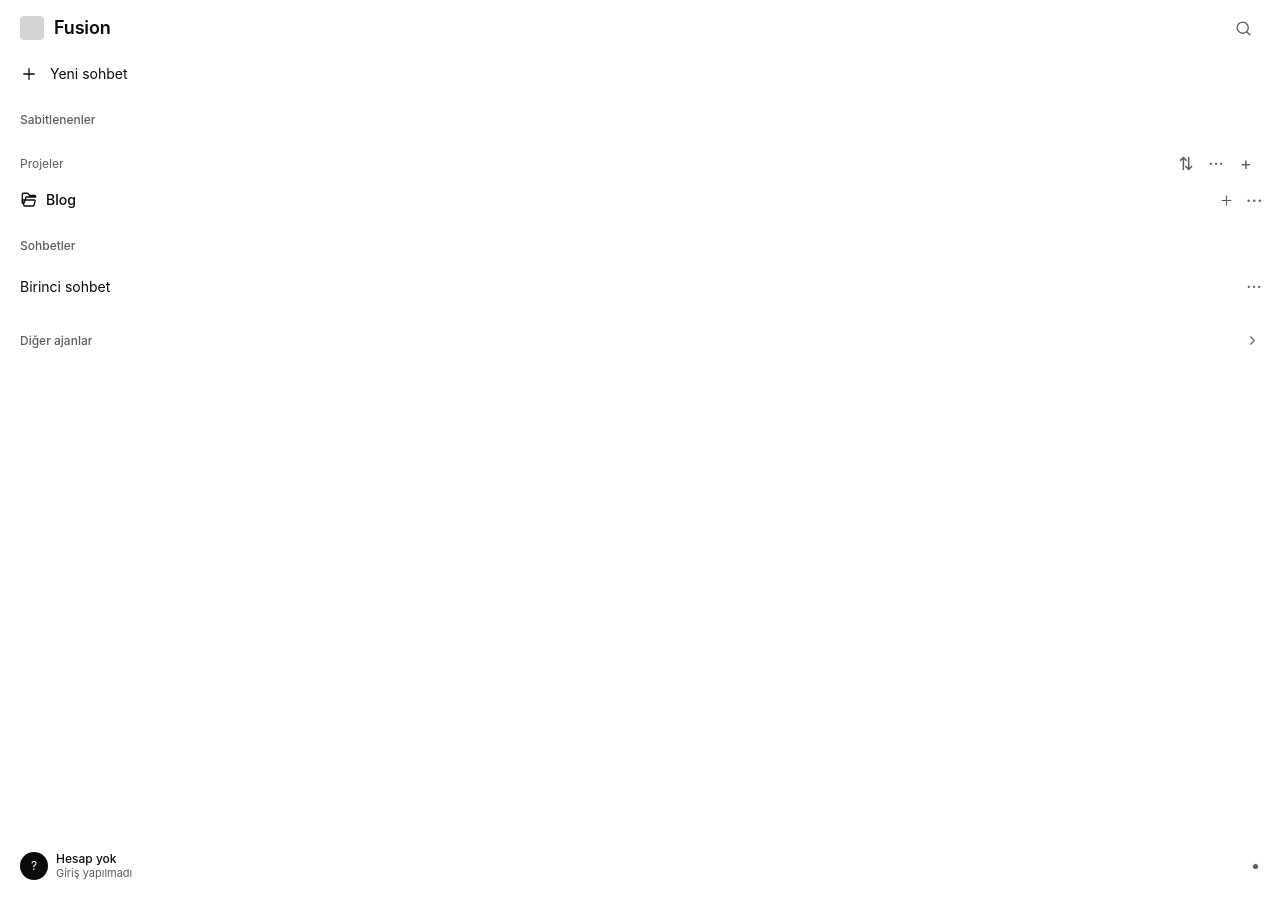
Scenario: Sidebar — dalga 4 P2/P3 › taşıma hatası 'Error:' öneki olmadan gösterilir (U1-60)
Click the button named "Birinci sohbet sohbet seçenekleri" at (1254, 287), box [1240, 273, 1268, 301]
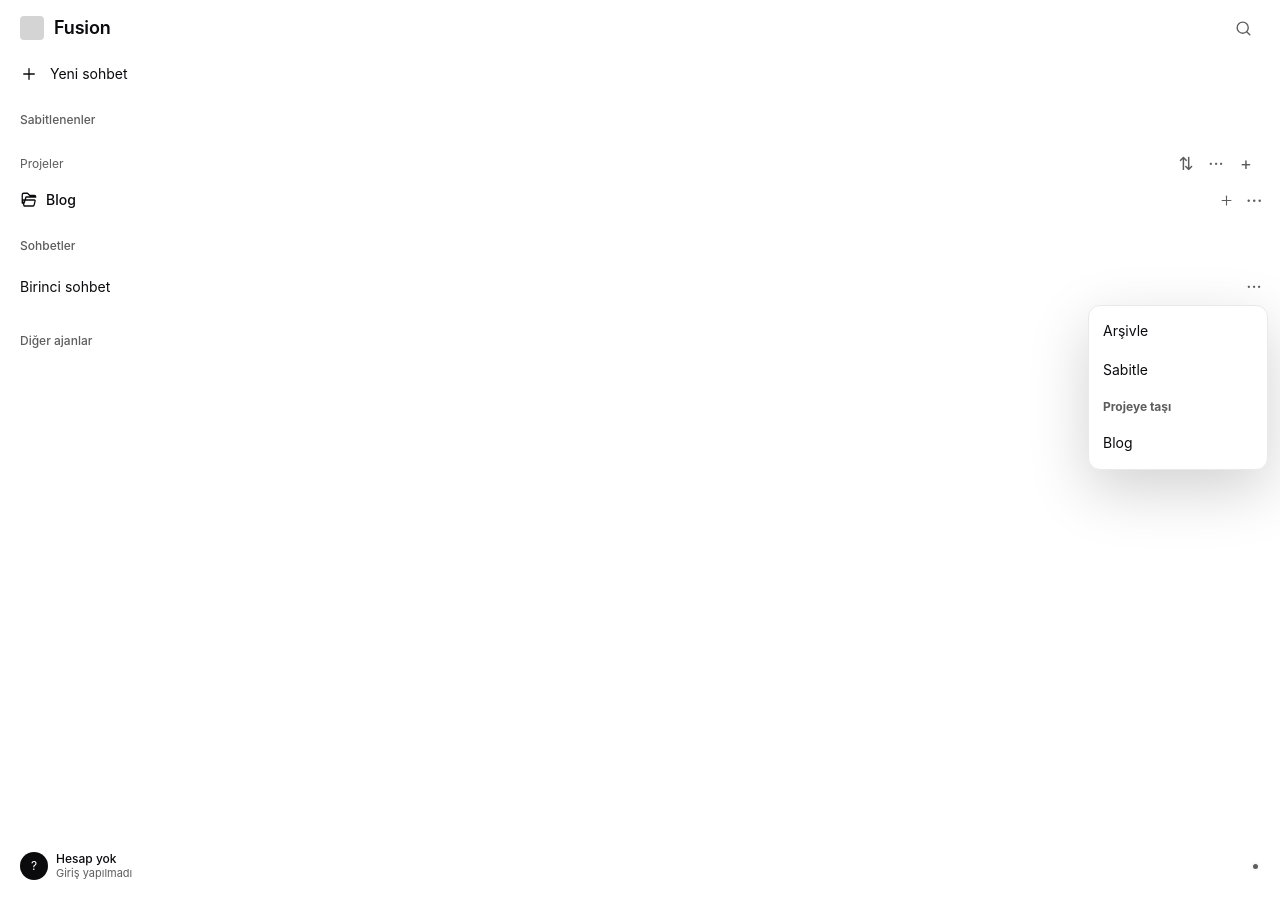
Click the menu item "Blog" at (1178, 444), box [1095, 424, 1261, 463]
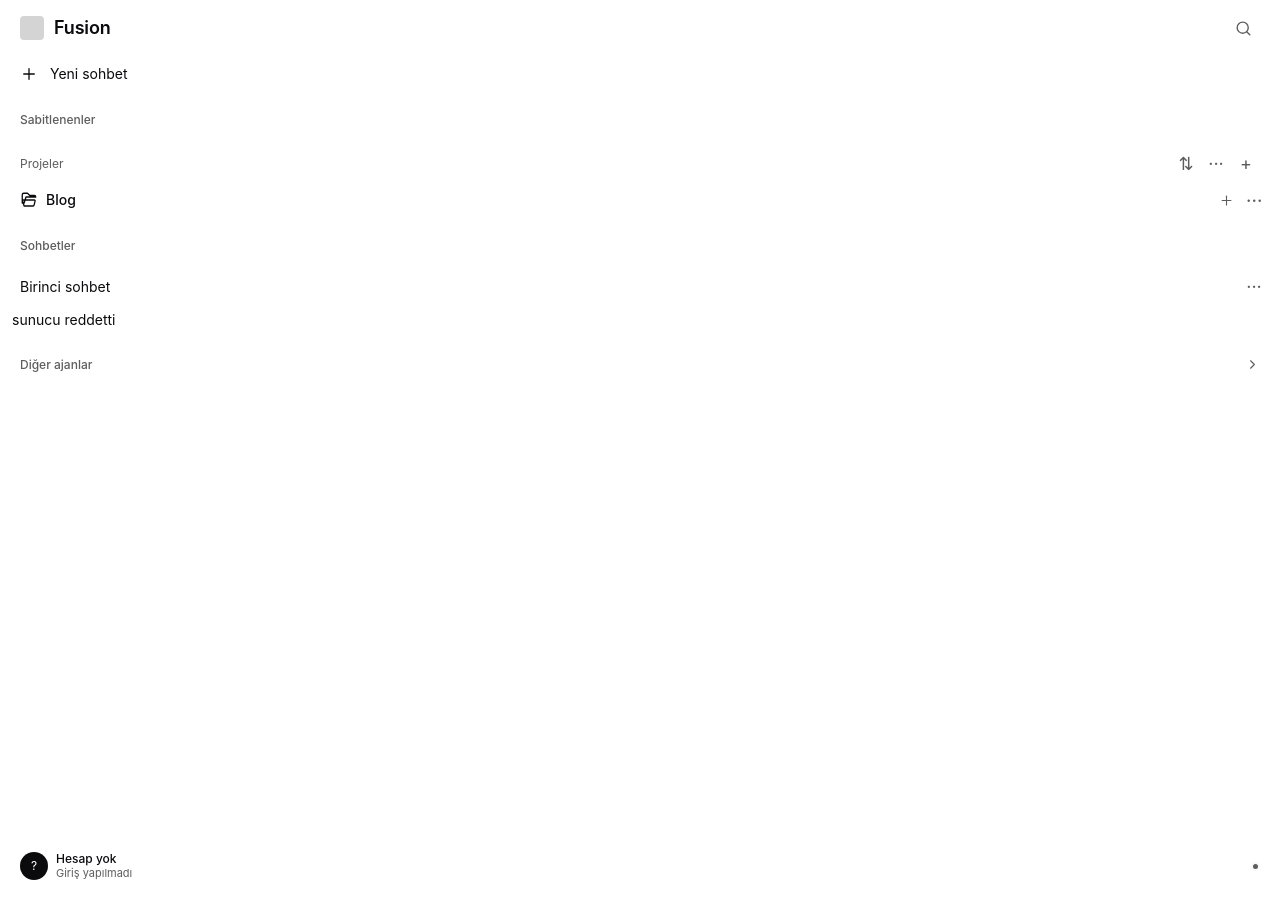
Check: the message reads "sunucu reddetti", box [12, 311, 116, 328]
